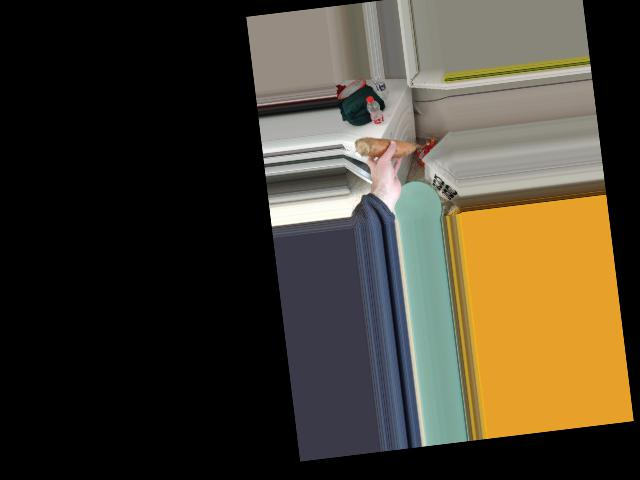sweet_potato: (354, 136, 419, 160)
